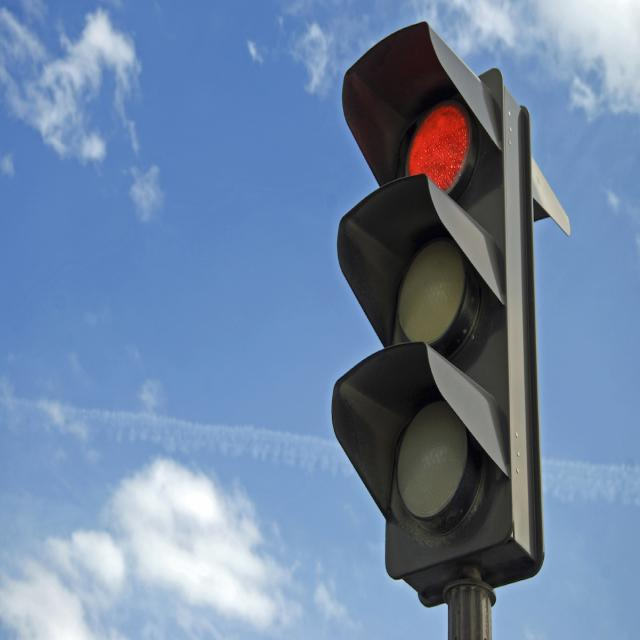red: (385, 88, 482, 196)
